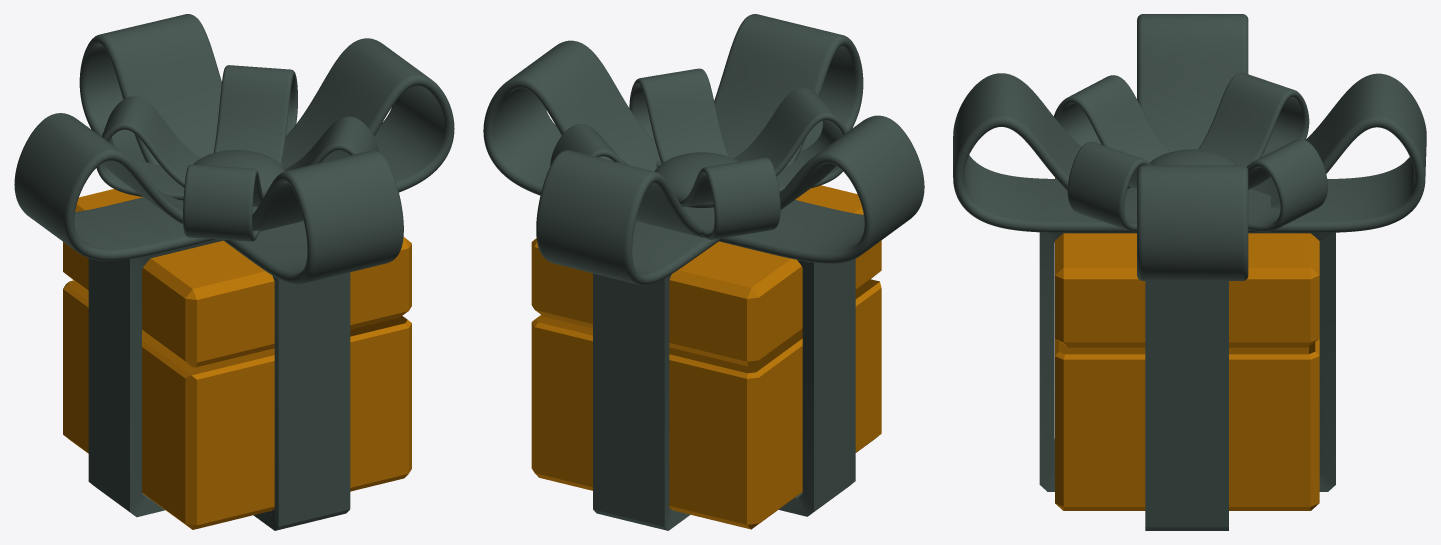
The model's file is Gift Fix.fbx.
The picture shows the model from 3 angles, left to right: view 1: azimuth 30°, elevation 25°; view 2: azimuth 150°, elevation 25°; view 3: azimuth 270°, elevation 25°; orthographic projection.
Visible parts, largest first — view 1: Box, Bow, Lid, NurbsPath.002, NurbsPath, NurbsPath.003, NurbsPath.001, Bow.003, NurbsPath.004, NurbsPath.005, NurbsPath.007, NurbsPath.006 (+1 smaller); view 2: Box, Bow, Lid, NurbsPath.003, NurbsPath, NurbsPath.001, NurbsPath.002, Bow.003, NurbsPath.006, NurbsPath.007, NurbsPath.005, Sphere (+1 smaller); view 3: Box, Bow, Lid, NurbsPath.002, NurbsPath.001, NurbsPath.003, NurbsPath, Bow.003, NurbsPath.007, NurbsPath.005, NurbsPath.004, NurbsPath.006 (+1 smaller).
Boxes of the visible parts, box(x1,y1,x2,y2) form: Box: box(63, 280, 411, 529); Bow: box(88, 313, 350, 530); Lid: box(63, 189, 411, 367); NurbsPath.002: box(222, 150, 403, 284); NurbsPath: box(14, 113, 215, 260); NurbsPath.003: box(79, 14, 221, 164); NurbsPath.001: box(282, 38, 454, 192); Bow.003: box(88, 239, 350, 354); NurbsPath.004: box(213, 65, 297, 166); NurbsPath.005: box(183, 164, 263, 241); NurbsPath.007: box(96, 96, 201, 200); NurbsPath.006: box(284, 116, 379, 171); Box: box(531, 279, 881, 529); Bow: box(593, 312, 855, 530); Lid: box(531, 185, 881, 366); NurbsPath.003: box(536, 150, 719, 285); NurbsPath: box(719, 115, 924, 263); NurbsPath.001: box(483, 40, 659, 195); NurbsPath.002: box(714, 14, 863, 165); Bow.003: box(593, 259, 855, 355); NurbsPath.006: box(629, 68, 728, 167); NurbsPath.007: box(679, 157, 780, 239); NurbsPath.005: box(734, 88, 848, 191); Sphere: box(654, 152, 738, 207); Box: box(1055, 339, 1319, 510); Bow: box(1039, 311, 1335, 530); Lid: box(1055, 178, 1319, 347); NurbsPath.002: box(953, 73, 1136, 232); NurbsPath.001: box(1137, 165, 1248, 280); NurbsPath.003: box(1248, 73, 1426, 232); NurbsPath: box(1137, 14, 1248, 152); Bow.003: box(1039, 232, 1335, 352); NurbsPath.007: box(1198, 72, 1309, 166); NurbsPath.005: box(1053, 75, 1169, 188); NurbsPath.004: box(1247, 139, 1327, 231); NurbsPath.006: box(1067, 141, 1151, 231).
Size of the model in its own units: 167 by 154 by 174.
